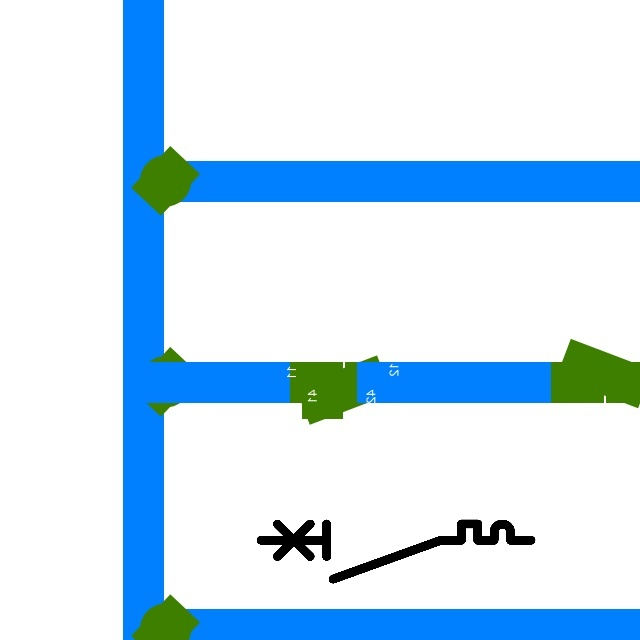interruptor_termomagnetico: (254, 517, 538, 586)
